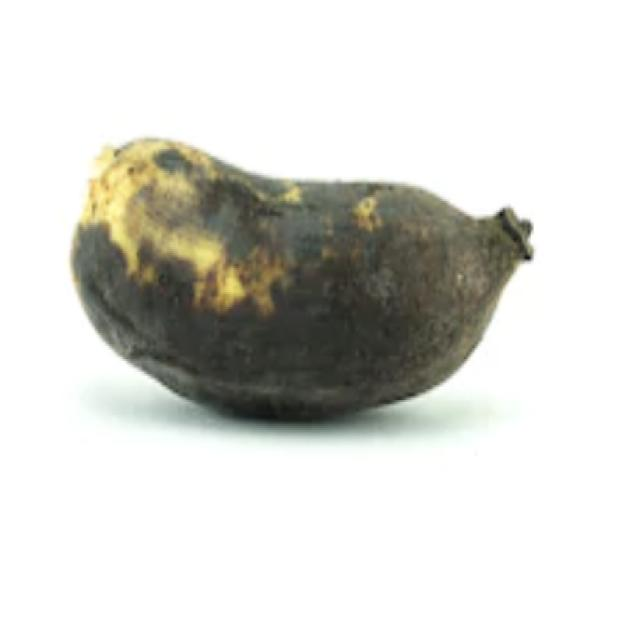rotten-banana: (68, 132, 534, 422)
